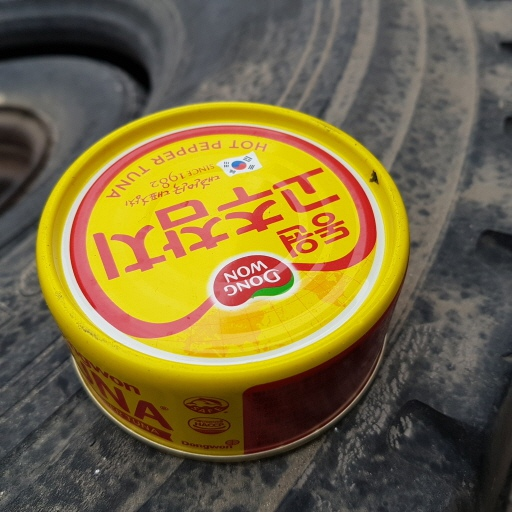Metal_1: (38, 99, 412, 463)
